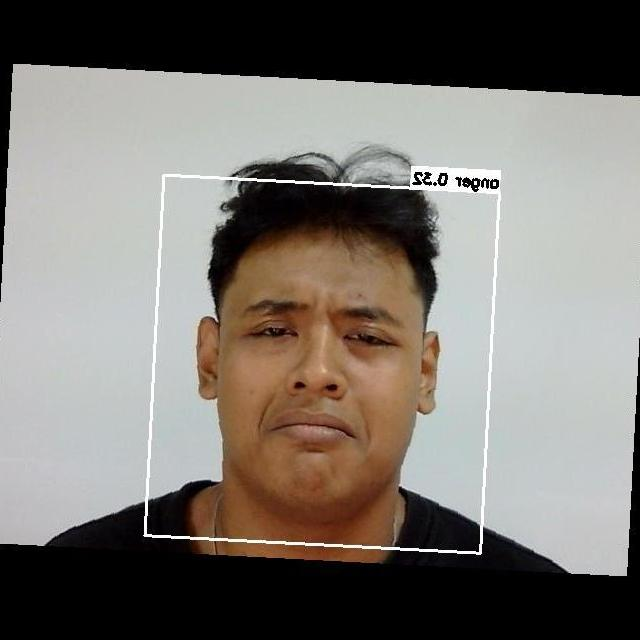Sad: (201, 275, 435, 508)
